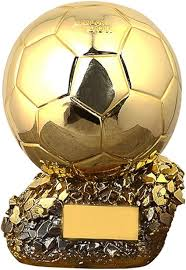football ball: (1, 1, 183, 183)
